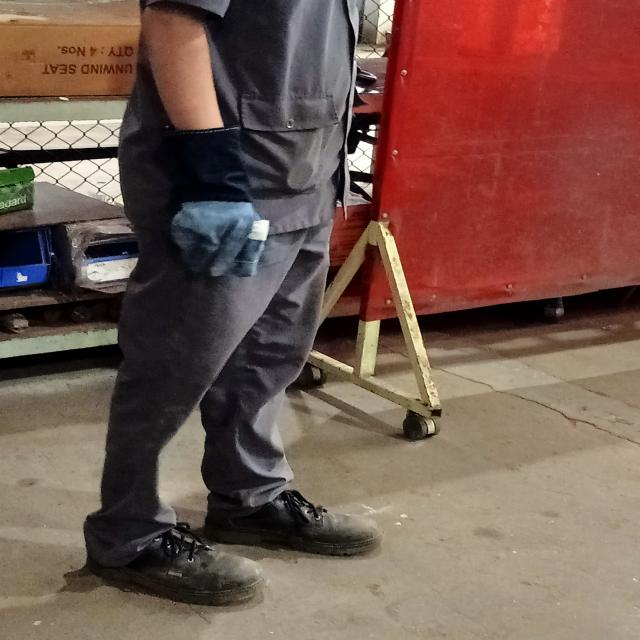Gloves-Detection: (165, 130, 288, 276)
